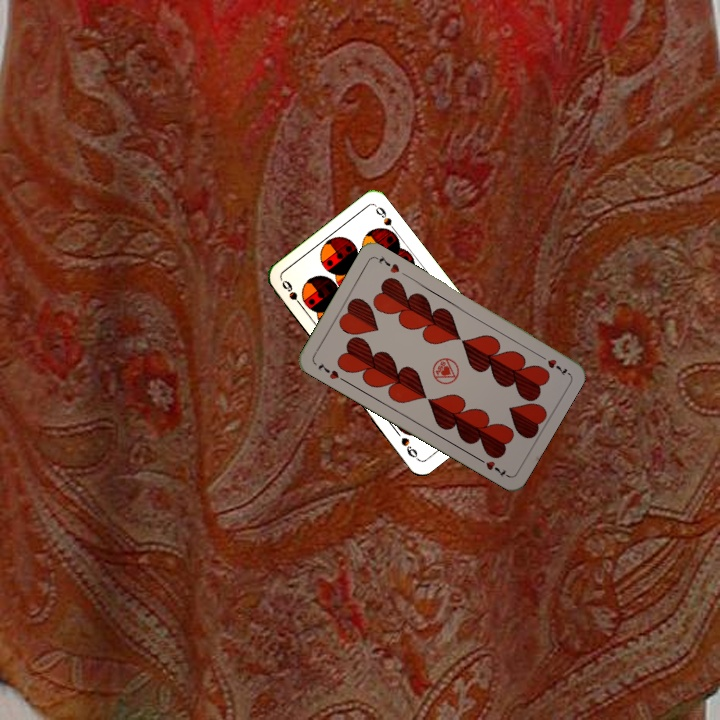H7: (534, 350, 571, 378), (314, 359, 348, 384)
S9: (278, 276, 307, 312)
